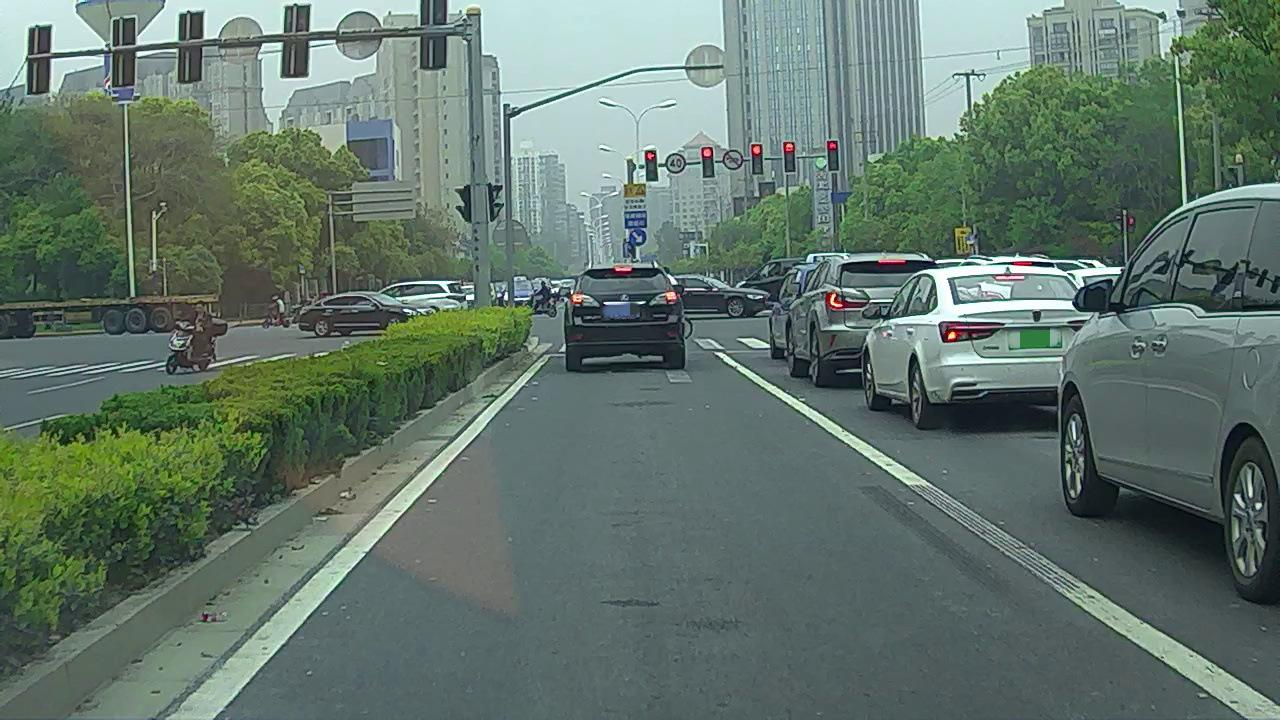traffic_light: (645, 149, 658, 181), (783, 142, 796, 173), (702, 148, 715, 177), (827, 140, 839, 171), (750, 145, 762, 173)
